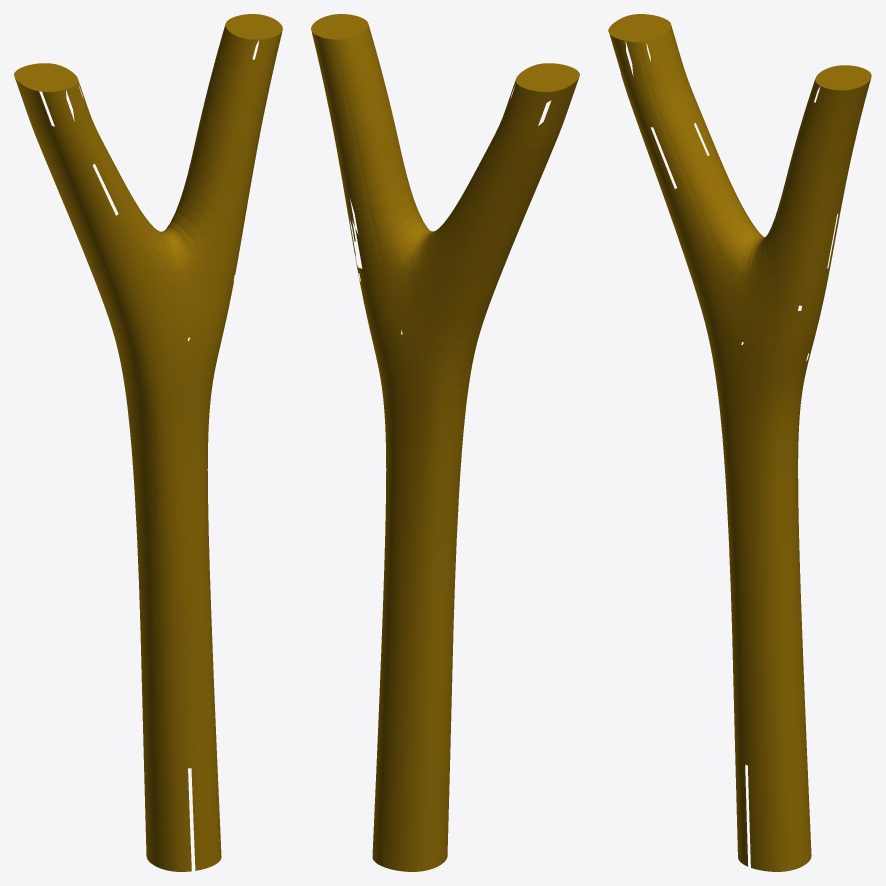
File: 10_decorative.glb
3 renders of one model, left to right at view 1: azimuth 30°, elevation 25°; view 2: azimuth 150°, elevation 25°; view 3: azimuth 330°, elevation 25°, orthographic. The views are drawn at different scales.
Visible parts, largest first — view 1: skpD17; view 2: skpD17; view 3: skpD17.
Part boxes in pixels (<box>): skpD17: <box>14,14,282,871</box>; skpD17: <box>311,14,579,871</box>; skpD17: <box>608,14,871,871</box>.
Size of the model in its own units: 1.21 by 3.66 by 0.3134.
